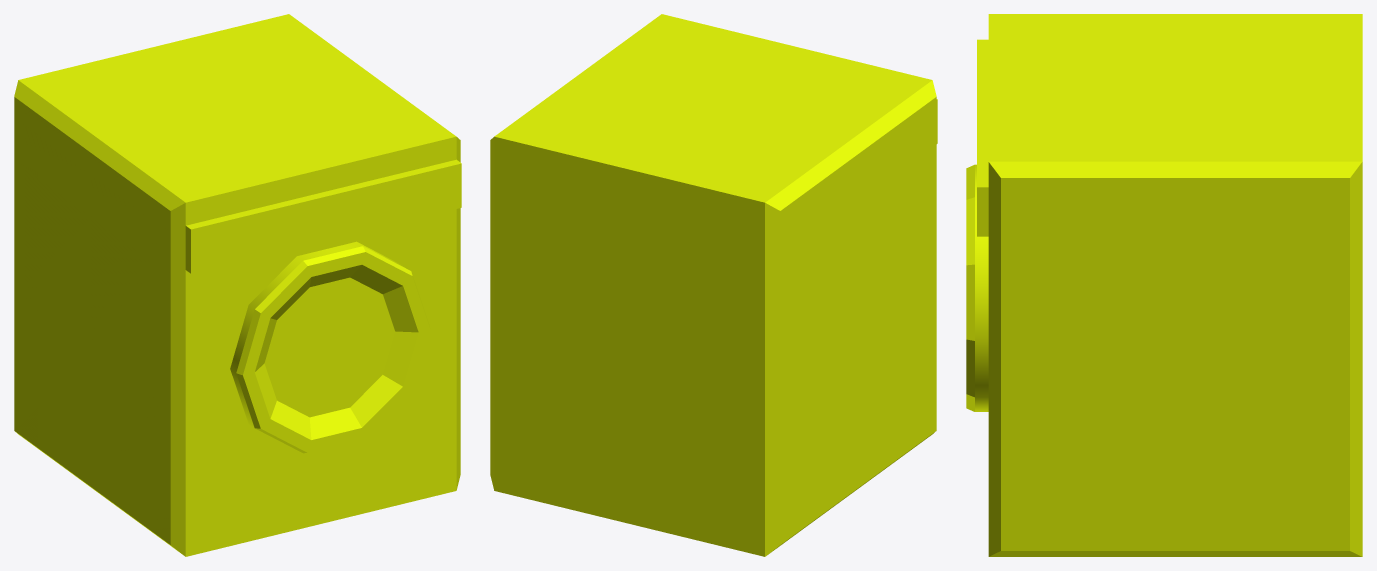
The model's file is WashingMachine3.FBX.
3 renders of one model, left to right at view 1: azimuth 30°, elevation 25°; view 2: azimuth 150°, elevation 25°; view 3: azimuth 270°, elevation 25°, orthographic. The views are drawn at different scales.
Visible parts, largest first — view 1: Box022; view 2: Box022; view 3: Box022.
Boxes of the visible parts, box(x1,y1,x2,y2) form: Box022: box(14, 14, 461, 556); Box022: box(490, 14, 937, 556); Box022: box(966, 14, 1362, 556).
Size of the model in its own units: 1.35 by 1.57 by 1.42.
